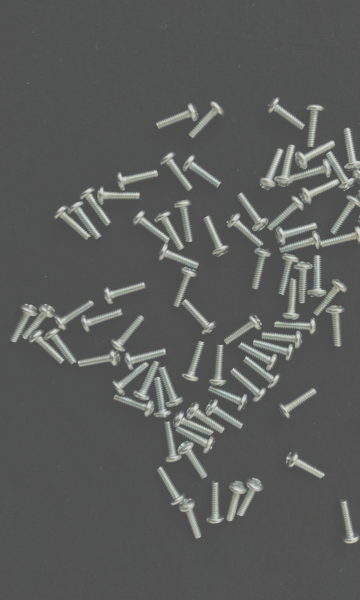shortscrew: (188, 102, 225, 140), (182, 154, 222, 189), (53, 205, 91, 241), (268, 196, 306, 232), (267, 96, 306, 131), (67, 201, 101, 240), (314, 278, 348, 317), (160, 152, 193, 192), (231, 368, 268, 403), (227, 213, 265, 247), (112, 314, 145, 353), (79, 187, 112, 226), (185, 403, 226, 434), (182, 300, 218, 335), (112, 362, 149, 396), (44, 328, 78, 365), (28, 330, 65, 364), (176, 441, 208, 480), (278, 388, 318, 419), (154, 211, 185, 251), (156, 102, 200, 130), (294, 140, 335, 170), (133, 211, 170, 244), (244, 356, 281, 389), (225, 314, 263, 346), (157, 466, 187, 506), (237, 193, 268, 231), (202, 217, 230, 259), (54, 302, 94, 331), (24, 304, 55, 341), (286, 452, 328, 479), (237, 478, 265, 518), (239, 343, 279, 371), (80, 309, 123, 335), (258, 148, 284, 191), (176, 428, 217, 455), (206, 400, 244, 429), (134, 361, 161, 401), (275, 222, 318, 247), (172, 410, 213, 436), (10, 304, 37, 343), (178, 498, 203, 540), (291, 158, 333, 183), (300, 178, 340, 204), (302, 103, 325, 148), (103, 281, 146, 305), (173, 267, 198, 308), (159, 244, 200, 269), (113, 394, 155, 418), (338, 501, 360, 546), (250, 246, 272, 291), (277, 253, 300, 296), (125, 348, 167, 371), (161, 366, 184, 408), (161, 421, 183, 464), (116, 169, 159, 191), (275, 145, 297, 188), (253, 340, 295, 362), (208, 388, 248, 411), (174, 200, 195, 243), (183, 342, 205, 383), (280, 232, 321, 254), (226, 482, 248, 522), (322, 226, 360, 249), (78, 349, 121, 369), (97, 186, 140, 206), (293, 262, 313, 305), (308, 255, 327, 299), (207, 482, 226, 525), (208, 344, 227, 387), (155, 377, 174, 419), (327, 305, 346, 347), (282, 278, 300, 321), (343, 127, 360, 172), (262, 331, 303, 349), (275, 318, 318, 333), (351, 147, 360, 186), (353, 174, 360, 207), (359, 191, 360, 230)
